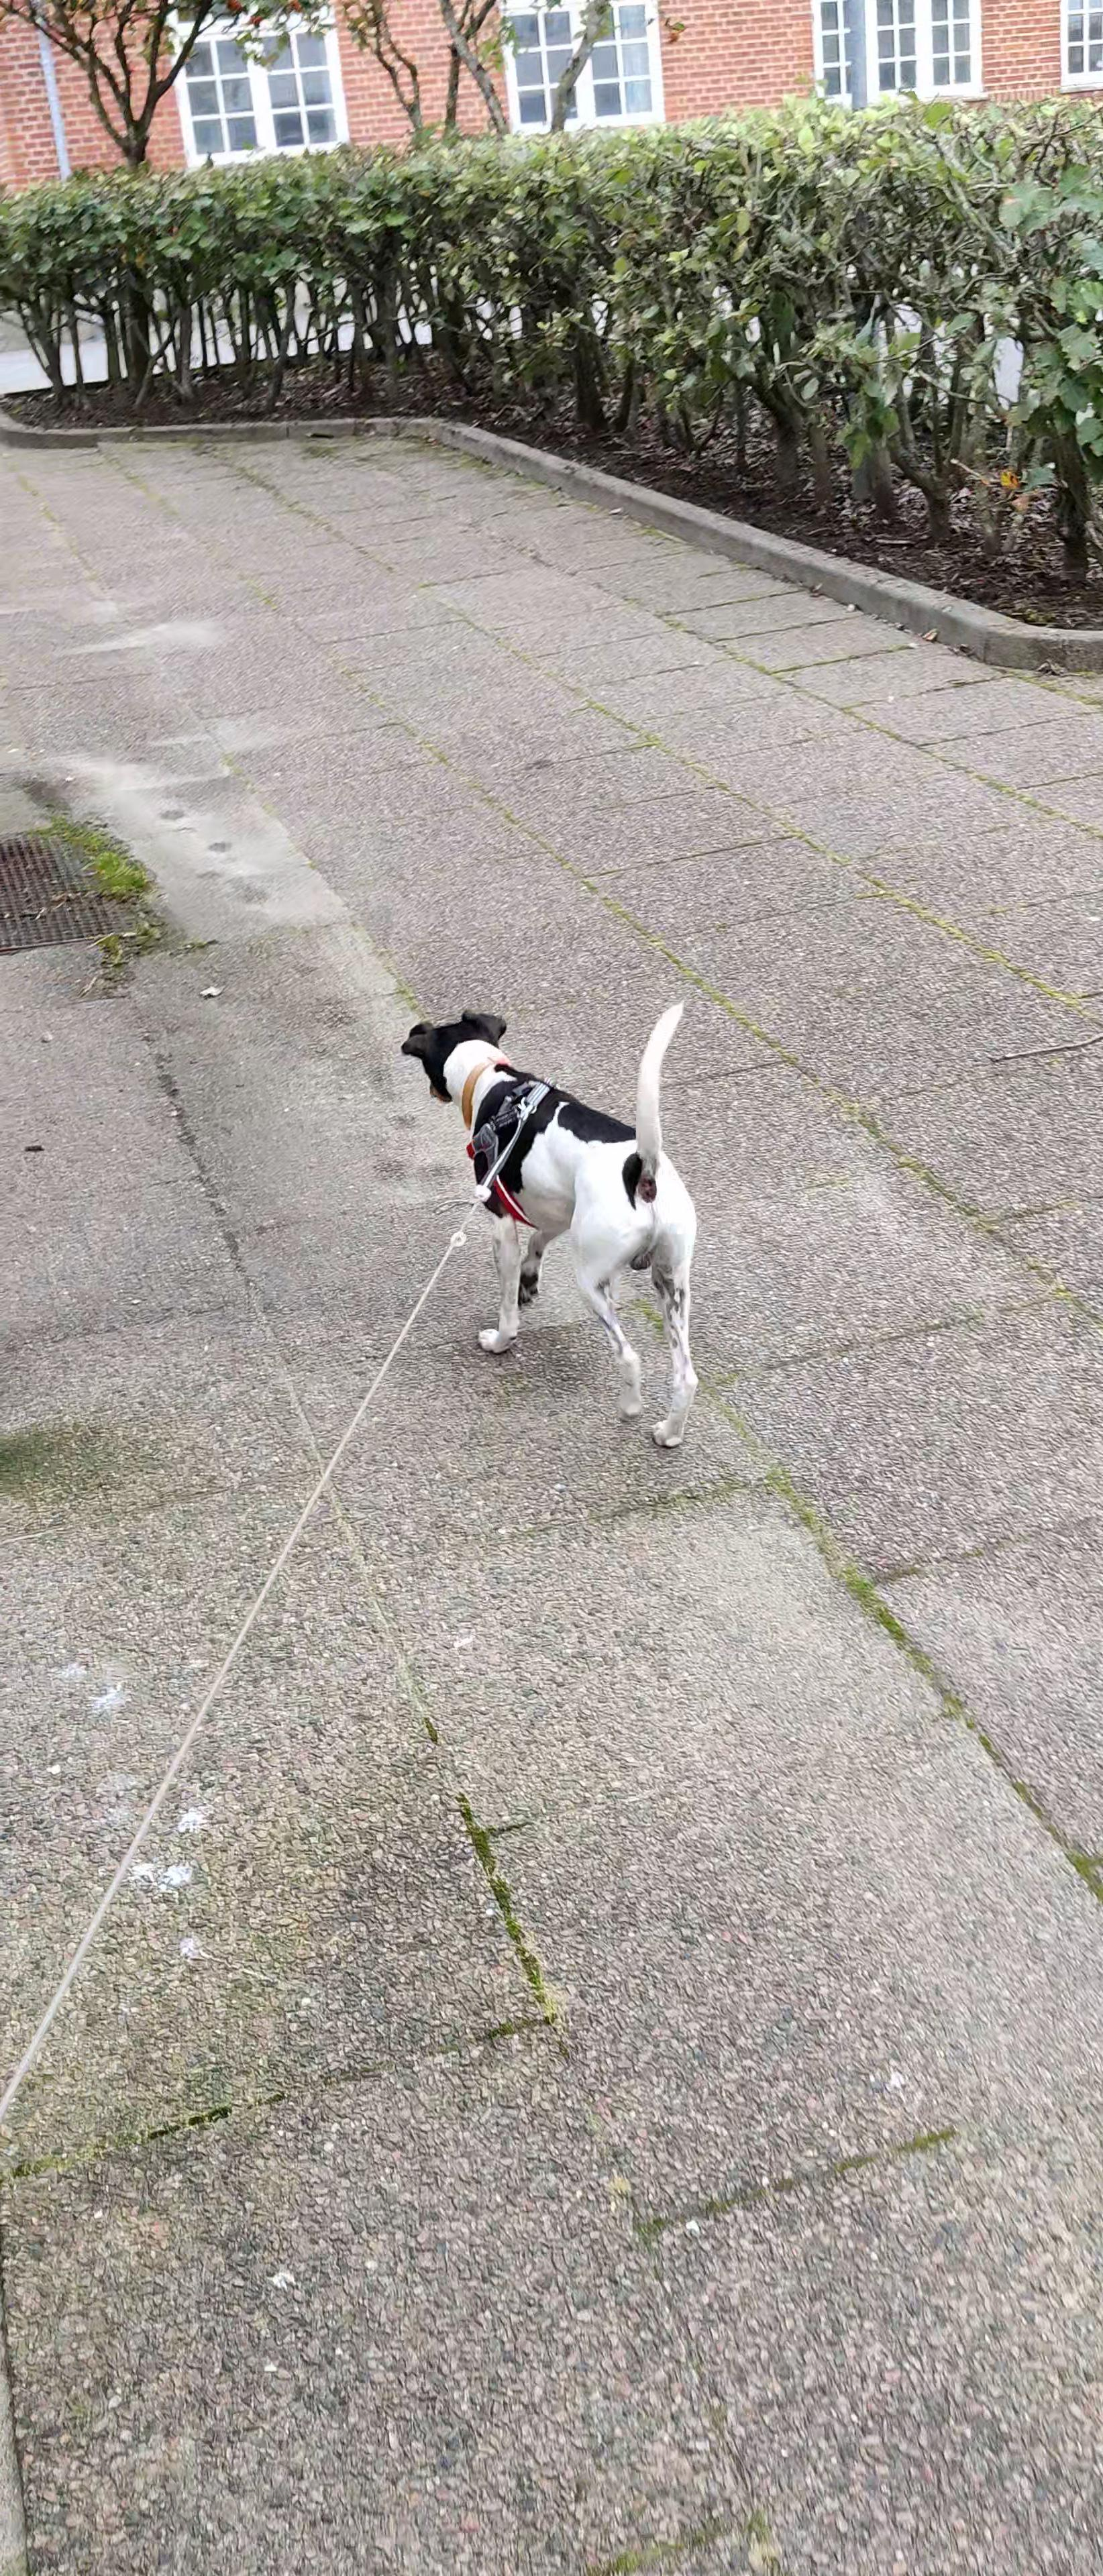Dog: (396, 994, 708, 1456)
